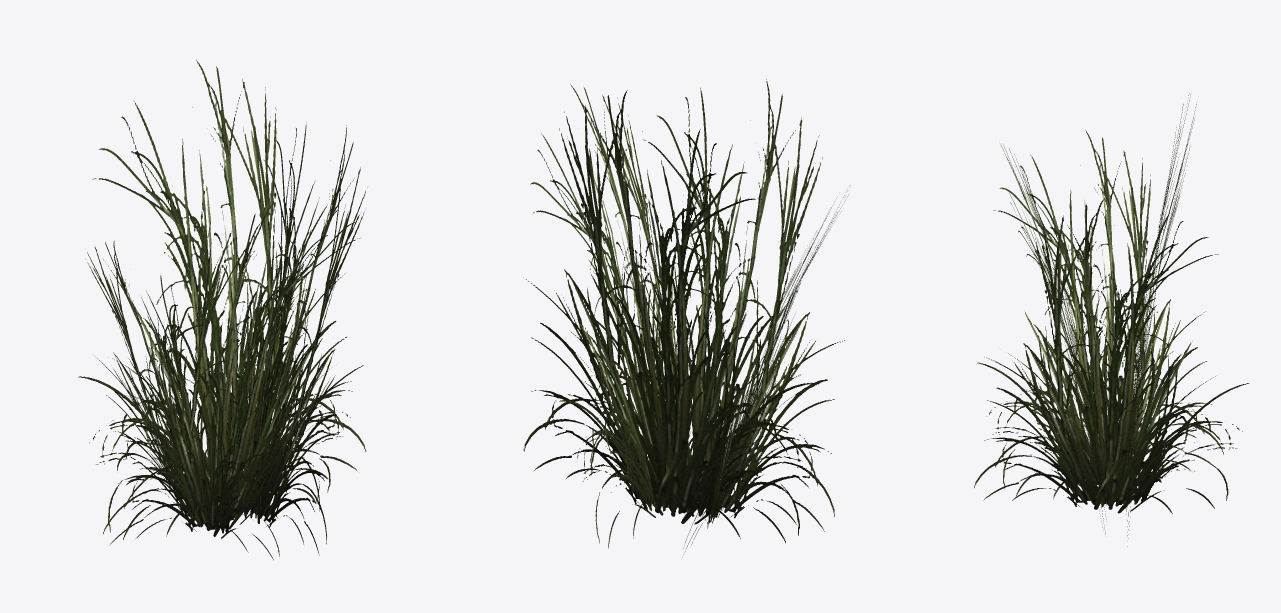
Rendered from grass_2.dae.
3 renders of one model, left to right at view 1: azimuth 30°, elevation 25°; view 2: azimuth 150°, elevation 25°; view 3: azimuth 270°, elevation 25°, orthographic. The views are drawn at different scales.
Parts seen in each view (by area): view 1: grass_2; view 2: grass_2; view 3: grass_2.
Boxes of the visible parts, bbox=[...] form: grass_2: bbox=[78, 59, 367, 560]; grass_2: bbox=[523, 79, 849, 557]; grass_2: bbox=[974, 93, 1249, 546].
Bounding box in the file's own units: 0.7557 × 0.6727 × 1.
Materials: 1 (1 with a texture image).
